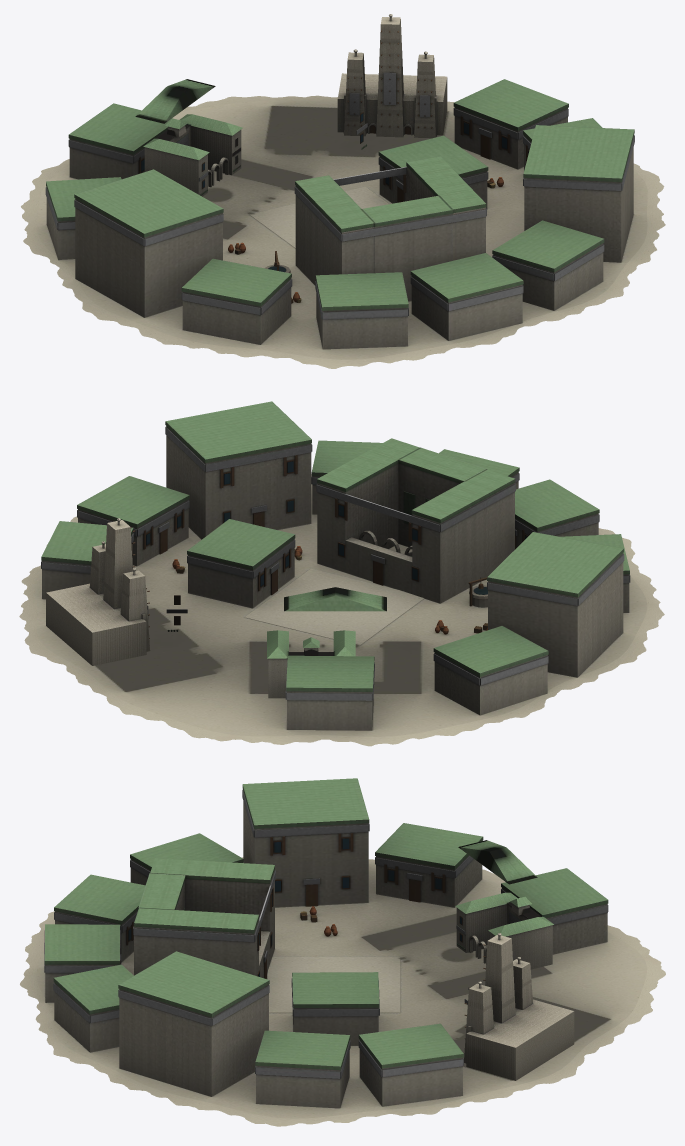
The model's file is gunpowder-town-medium-a-maghreb-4397f237.glb.
The picture shows the model from 3 angles, top to bottom: view 1: azimuth 30°, elevation 25°; view 2: azimuth 150°, elevation 25°; view 3: azimuth 270°, elevation 25°; orthographic projection.
Parts seen in each view (by area): view 1: LOD0; view 2: LOD0; view 3: LOD0.
Part boxes in pixels (x1,y1,x2,y2): LOD0: [21, 14, 665, 368]; LOD0: [19, 401, 664, 746]; LOD0: [20, 778, 665, 1126].
Size of what is drawn, in the model's own units: 6.04 by 1.2 by 5.96.
3 materials, 3 textured.
